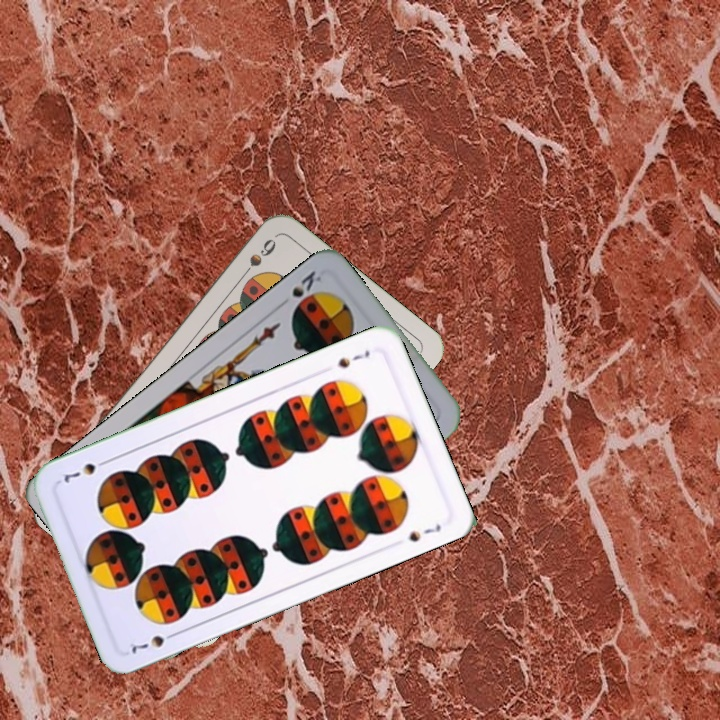S7: (127, 628, 181, 657), (333, 345, 373, 371)
S9: (235, 234, 279, 283)
SK: (287, 266, 326, 300)
